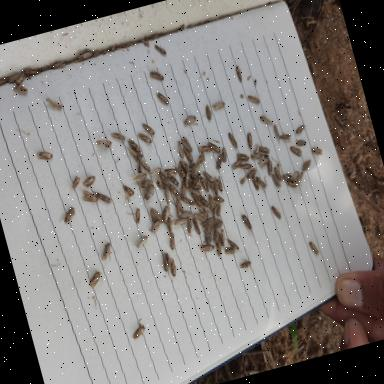pbw: (138, 184, 158, 204), (92, 186, 112, 206), (44, 92, 64, 112), (80, 186, 100, 206), (152, 170, 170, 190), (168, 182, 184, 204), (148, 64, 165, 84), (241, 213, 254, 238), (130, 322, 148, 340), (200, 242, 218, 260), (204, 138, 222, 156), (98, 242, 115, 261), (226, 236, 243, 255), (126, 136, 142, 155), (120, 182, 136, 201), (196, 201, 212, 220), (162, 186, 174, 211), (158, 204, 173, 224), (182, 112, 202, 127), (176, 178, 190, 199), (160, 251, 173, 273), (166, 170, 180, 190), (138, 154, 152, 174), (174, 162, 188, 182), (179, 158, 194, 176), (186, 161, 200, 180), (166, 230, 178, 252), (190, 190, 203, 210), (200, 228, 213, 248), (66, 175, 82, 191), (136, 130, 152, 146), (96, 137, 114, 151), (270, 203, 284, 221), (176, 208, 194, 222), (36, 148, 54, 162), (198, 175, 210, 196), (142, 120, 156, 138), (190, 214, 201, 236), (128, 171, 148, 183), (110, 129, 126, 144), (192, 210, 208, 225), (197, 140, 213, 155), (81, 174, 98, 188), (156, 90, 170, 107), (213, 152, 226, 170), (173, 198, 185, 217), (182, 171, 194, 190), (138, 178, 154, 192), (130, 144, 144, 160), (12, 81, 28, 95), (202, 170, 216, 186), (180, 194, 197, 207), (198, 193, 211, 210), (211, 176, 222, 196), (7, 72, 25, 84), (209, 202, 221, 220), (256, 174, 268, 192), (181, 136, 193, 154), (182, 146, 194, 164), (132, 207, 144, 225), (260, 112, 274, 127), (310, 143, 324, 158), (257, 156, 272, 170), (148, 220, 163, 234), (235, 150, 250, 164), (290, 144, 304, 159), (134, 236, 150, 249), (251, 172, 261, 192), (165, 216, 175, 236), (168, 257, 178, 277), (273, 124, 282, 146), (184, 216, 195, 234), (188, 175, 202, 189), (14, 72, 28, 86), (23, 66, 39, 78), (154, 42, 166, 58), (192, 154, 204, 170), (209, 100, 226, 111), (244, 167, 258, 180), (218, 229, 228, 247), (228, 131, 238, 149), (235, 64, 245, 82), (214, 240, 224, 258), (126, 144, 138, 159), (78, 51, 94, 62), (205, 176, 216, 192), (50, 60, 66, 71), (287, 178, 303, 189), (309, 240, 320, 256), (171, 216, 187, 227), (272, 172, 282, 189), (206, 195, 216, 212), (274, 166, 284, 183), (204, 104, 214, 121), (300, 160, 314, 172), (155, 178, 167, 192), (188, 186, 202, 198), (214, 202, 225, 217), (210, 228, 220, 244), (134, 158, 144, 174), (214, 176, 224, 192), (294, 124, 310, 134), (219, 147, 229, 163), (245, 132, 255, 148), (258, 144, 271, 156), (281, 172, 294, 184), (248, 93, 260, 106), (231, 158, 244, 170), (238, 258, 252, 269), (266, 160, 275, 176), (294, 172, 306, 184), (238, 172, 250, 184), (177, 141, 185, 159), (224, 244, 237, 255), (212, 194, 225, 205), (240, 162, 254, 172), (148, 166, 162, 176), (250, 152, 264, 162), (164, 166, 178, 176), (189, 183, 202, 193), (288, 172, 300, 182), (295, 138, 307, 148), (280, 132, 292, 142), (252, 143, 262, 154), (0, 76, 11, 86)
